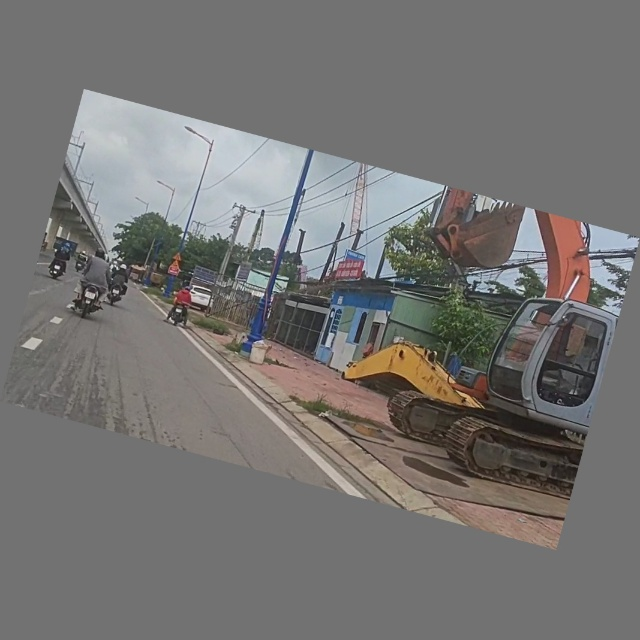W.203c: (171, 251, 185, 263)
W.245a: (169, 259, 182, 270)
